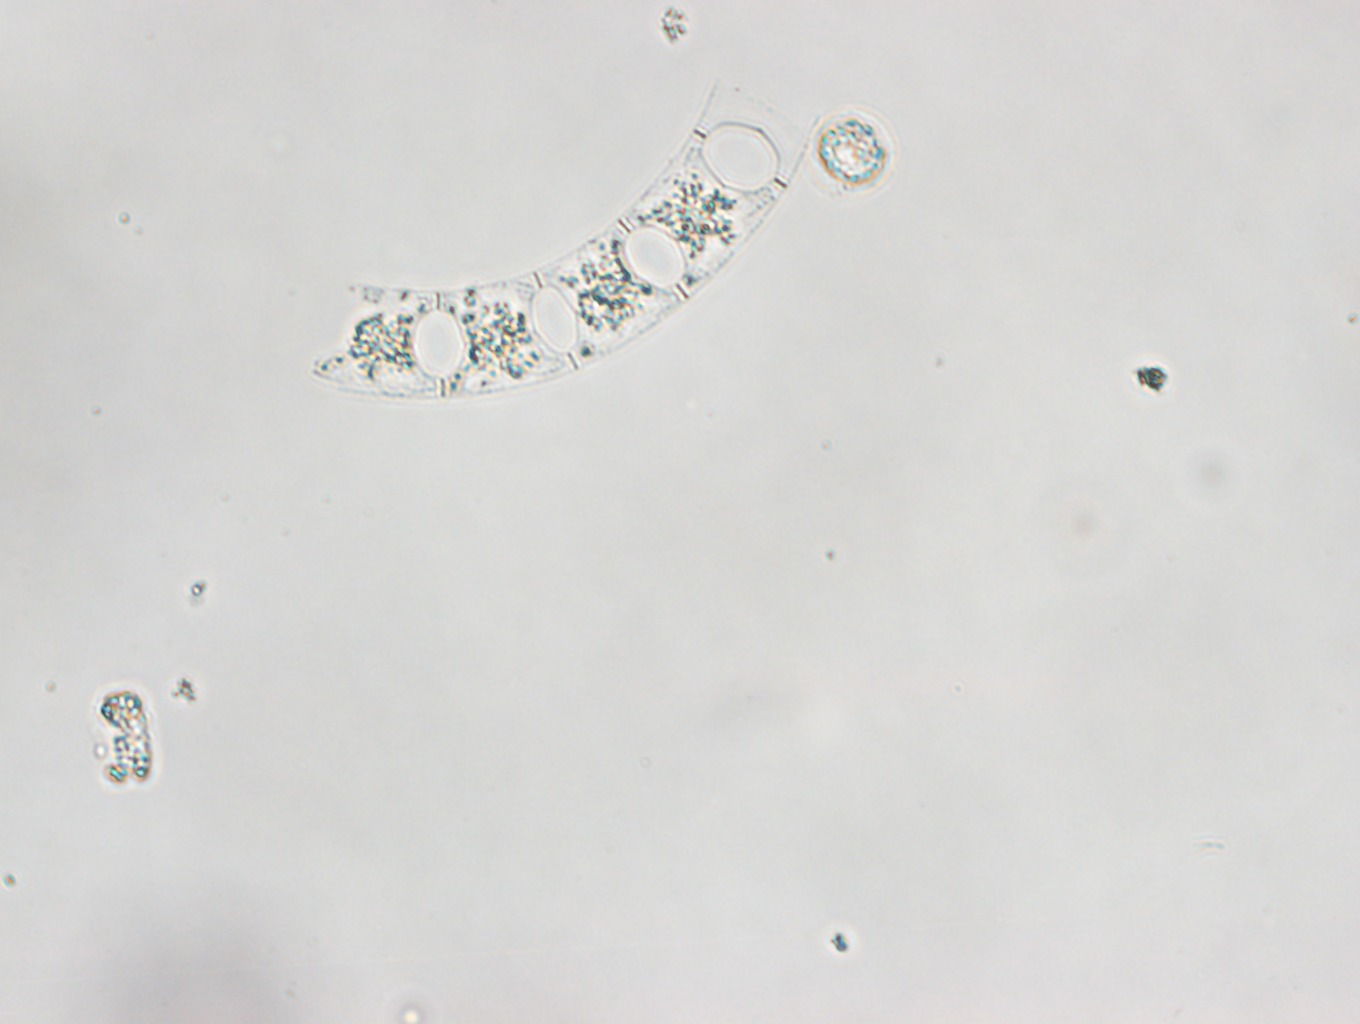eucampia: (307, 70, 815, 399)
